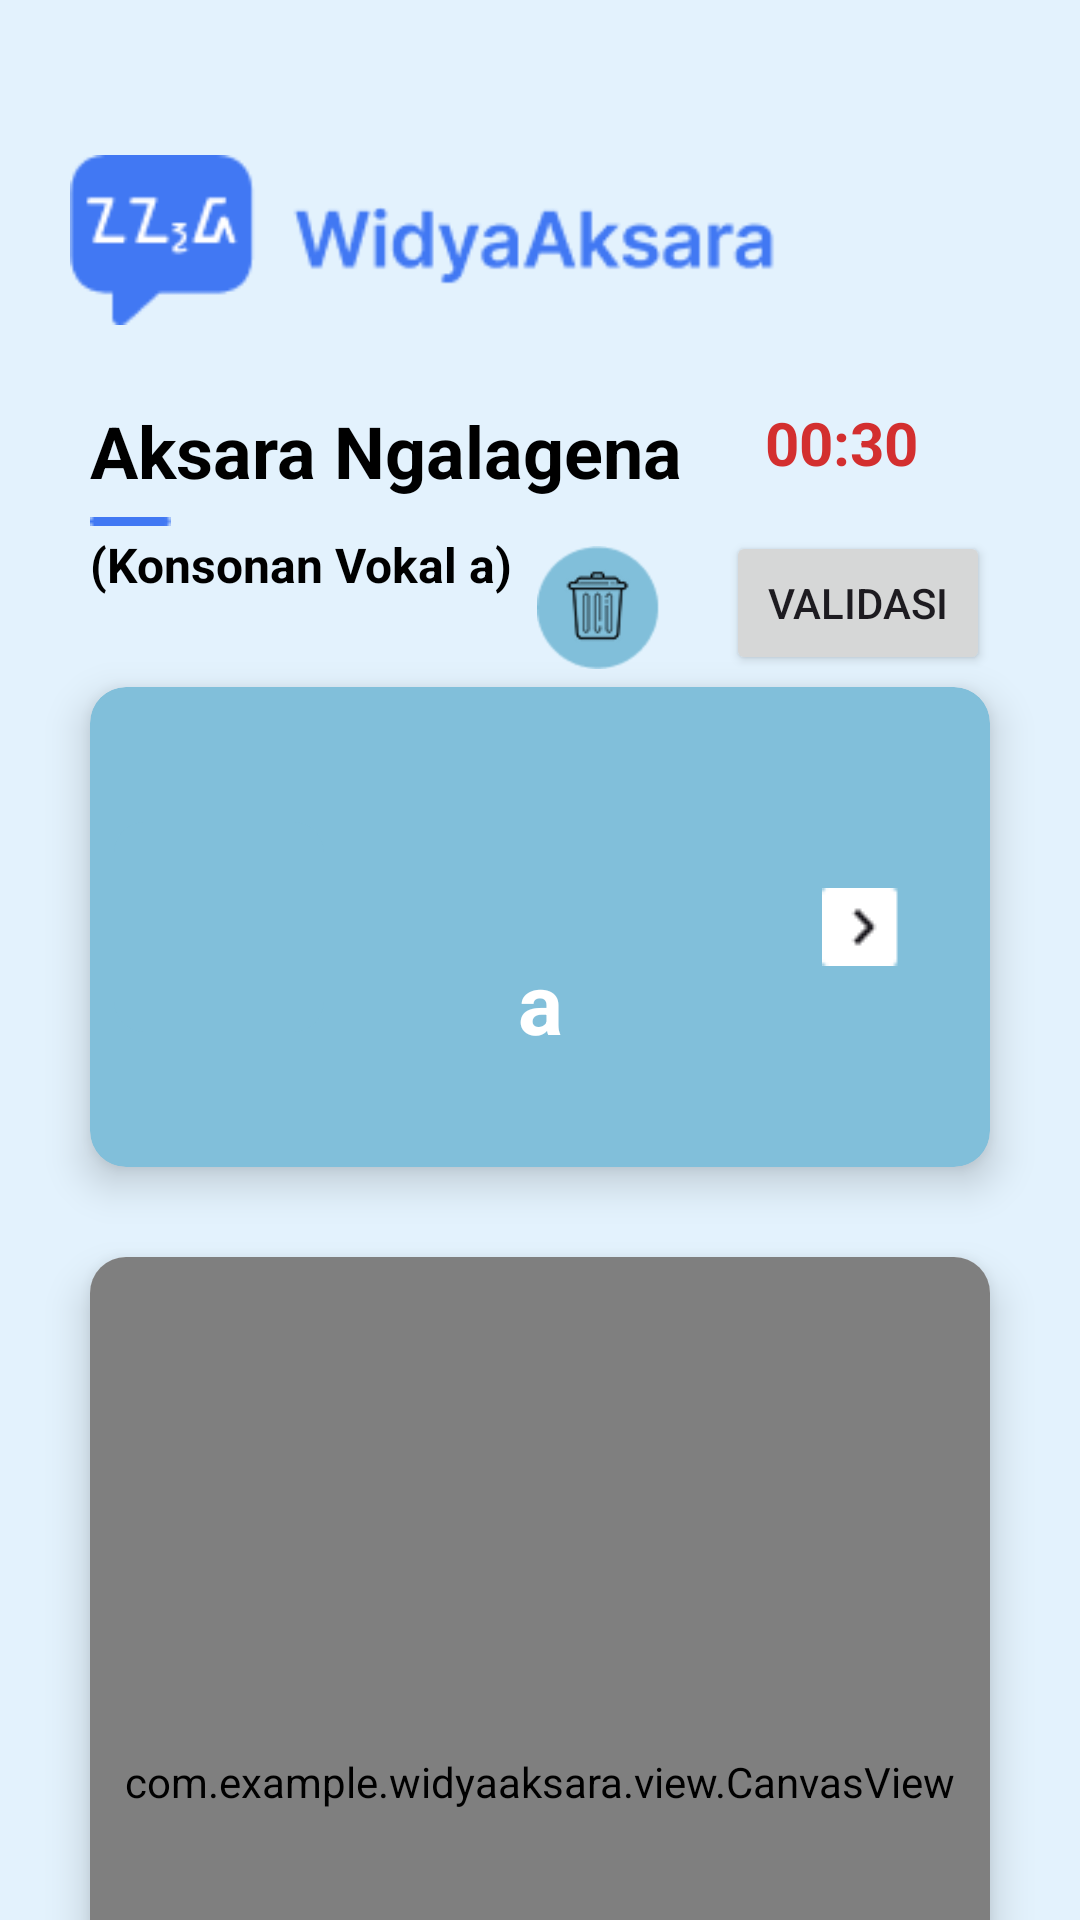

Screen size 1080 × 1920. Icon name, then its center in pixels as [x,y]:
Clear: [598,607]
next menulis: [860,927]
